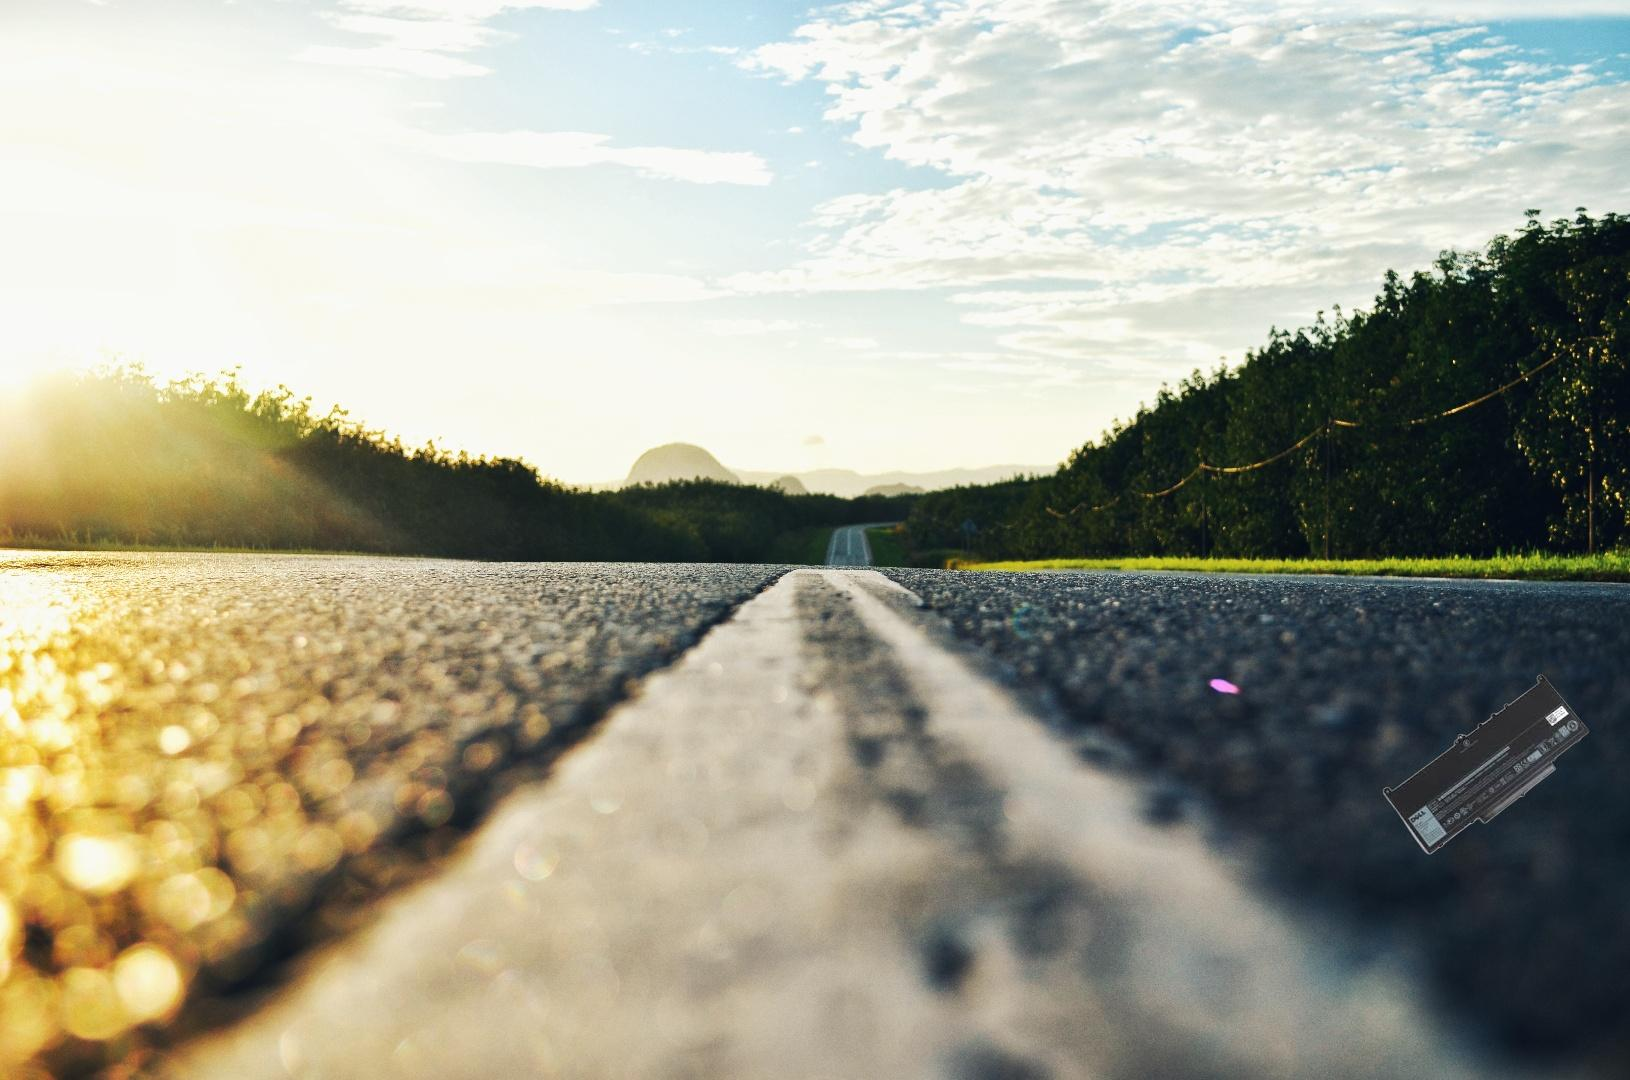battery: (1379, 671, 1591, 857)
